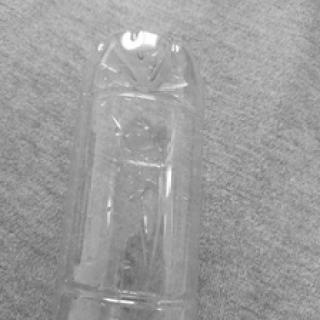plastic_bottles: (54, 26, 214, 320)
